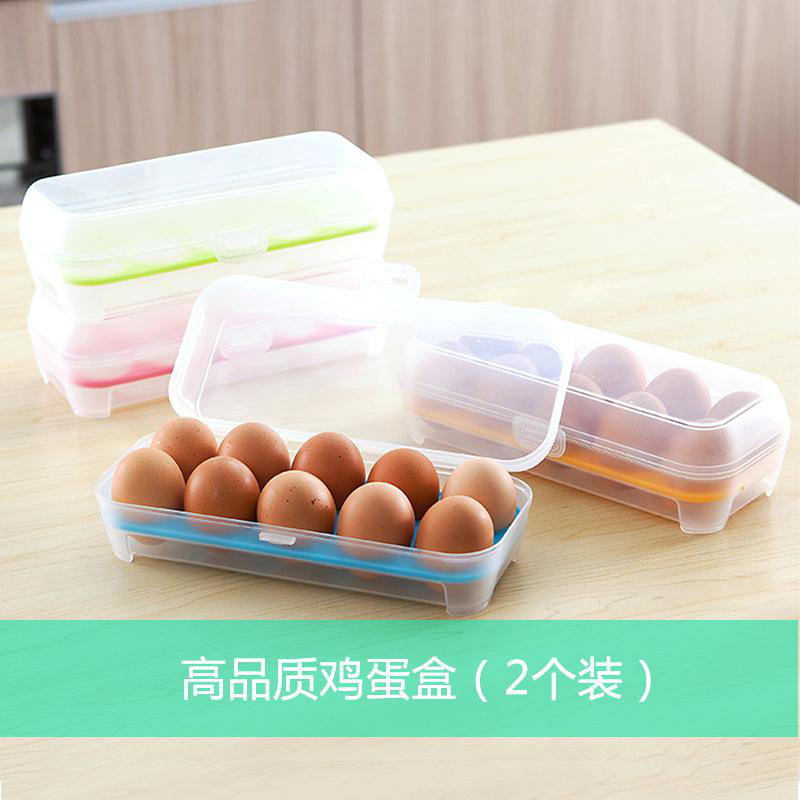egg: (102, 412, 527, 587), (420, 300, 789, 470)
